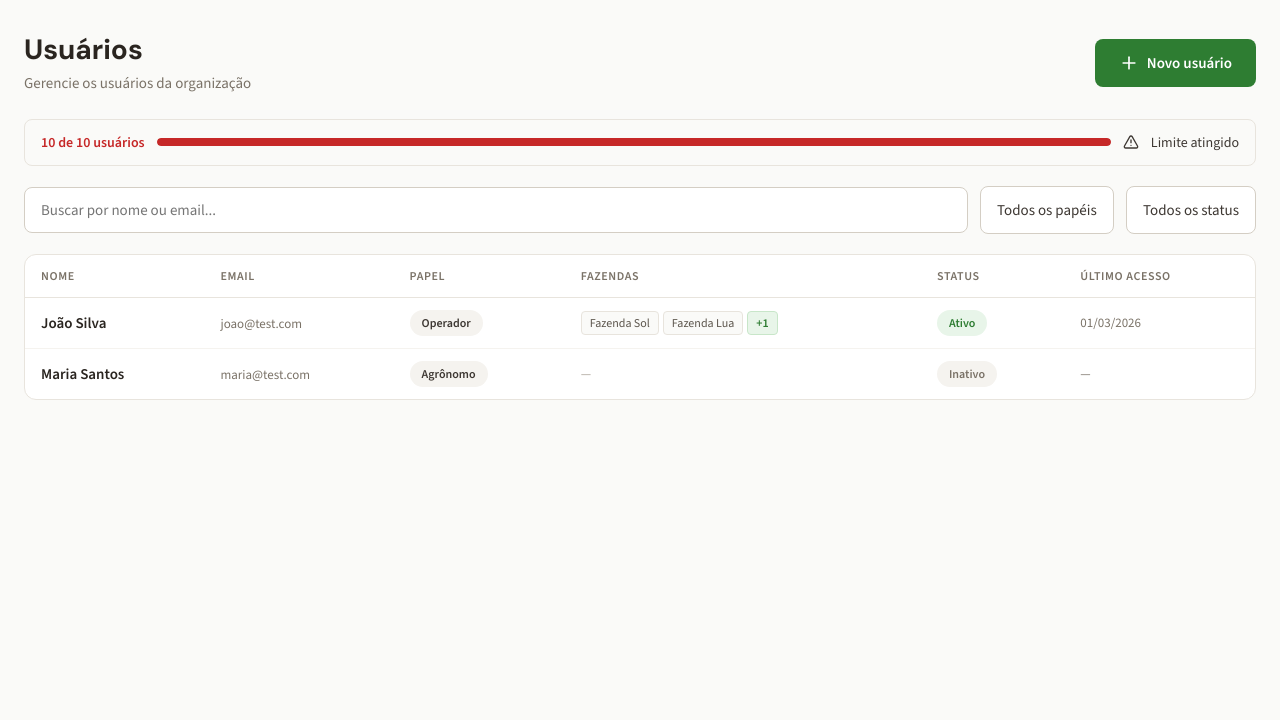
Test case: OrgUsersPage › should show limit blocked warning in create modal
The image size is (1280, 720).
Click the button "Novo usuário" at (1175, 63), box [1095,39,1256,87]
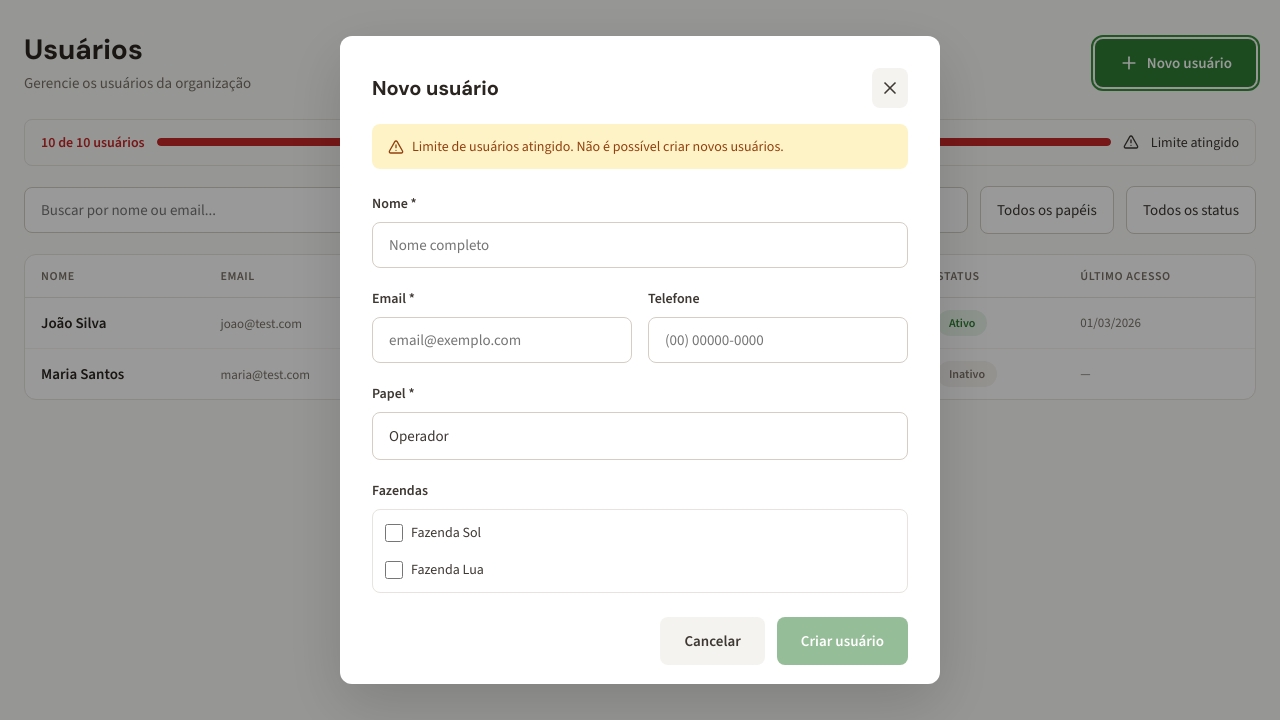
Check: the text "Limite de usuários atingido. Não é possível criar novos usuários." is shown, box [372,124,908,169]
